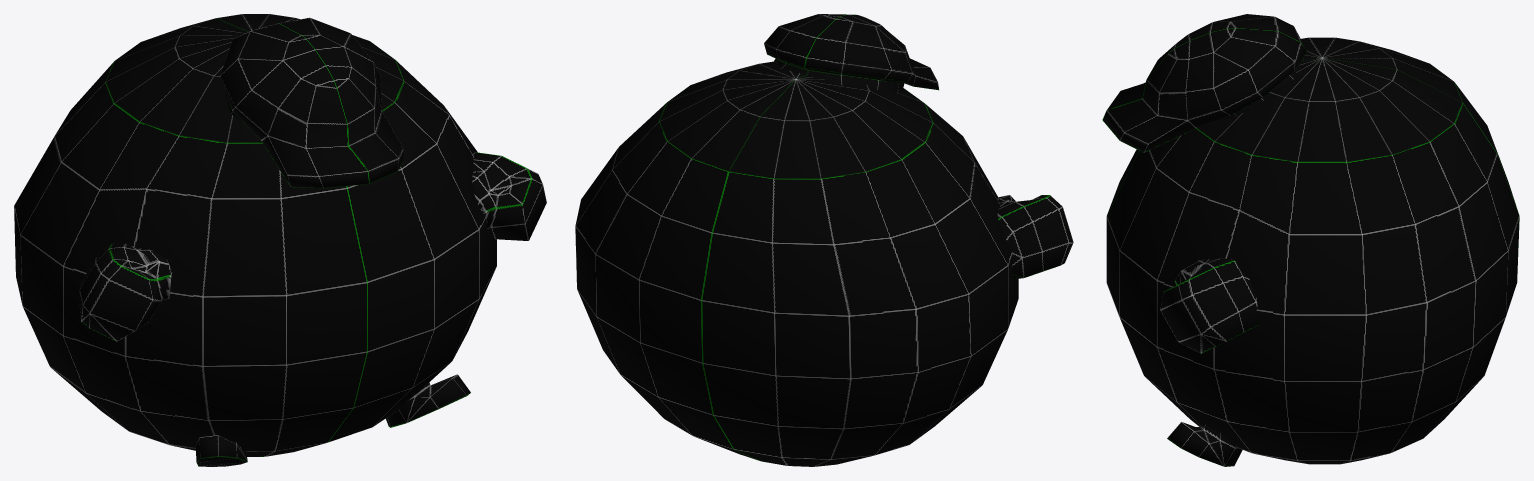
Rendered from c_ute_ball.FBX.
The picture shows the model from 3 angles, left to right: view 1: azimuth 30°, elevation 25°; view 2: azimuth 150°, elevation 25°; view 3: azimuth 270°, elevation 25°; orthographic projection. The views are drawn at different scales.
Parts seen in each view (by area): view 1: c_ute_ball; view 2: c_ute_ball; view 3: c_ute_ball.
Boxes of the visible parts, x1=… form: c_ute_ball: x1=14, y1=14, x2=546, y2=466; c_ute_ball: x1=575, y1=14, x2=1073, y2=466; c_ute_ball: x1=1102, y1=14, x2=1519, y2=466.
Bounding box in the file's own units: 149 × 122 × 133.
